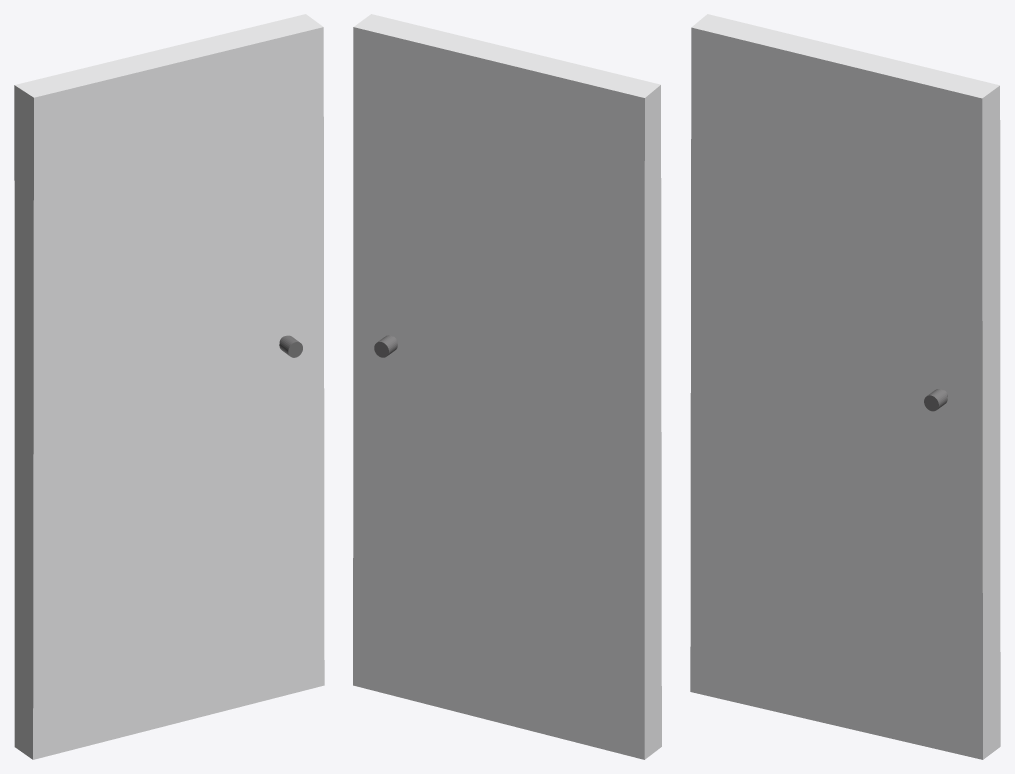
Rendered from door_room.glb.
3 renders of one model, left to right at view 1: azimuth 30°, elevation 25°; view 2: azimuth 150°, elevation 25°; view 3: azimuth 330°, elevation 25°, orthographic.
Parts seen in each view (by area): view 1: Plane.001; view 2: Plane.001; view 3: Plane.001.
Boxes of the visible parts, <box> form: Plane.001: <box>14,14,324,759</box>; Plane.001: <box>353,14,661,759</box>; Plane.001: <box>690,14,1000,759</box>.
Size of the model in its own units: 0.5906 by 1.28 by 0.141.
Materials: 1 (1 with a texture image).
